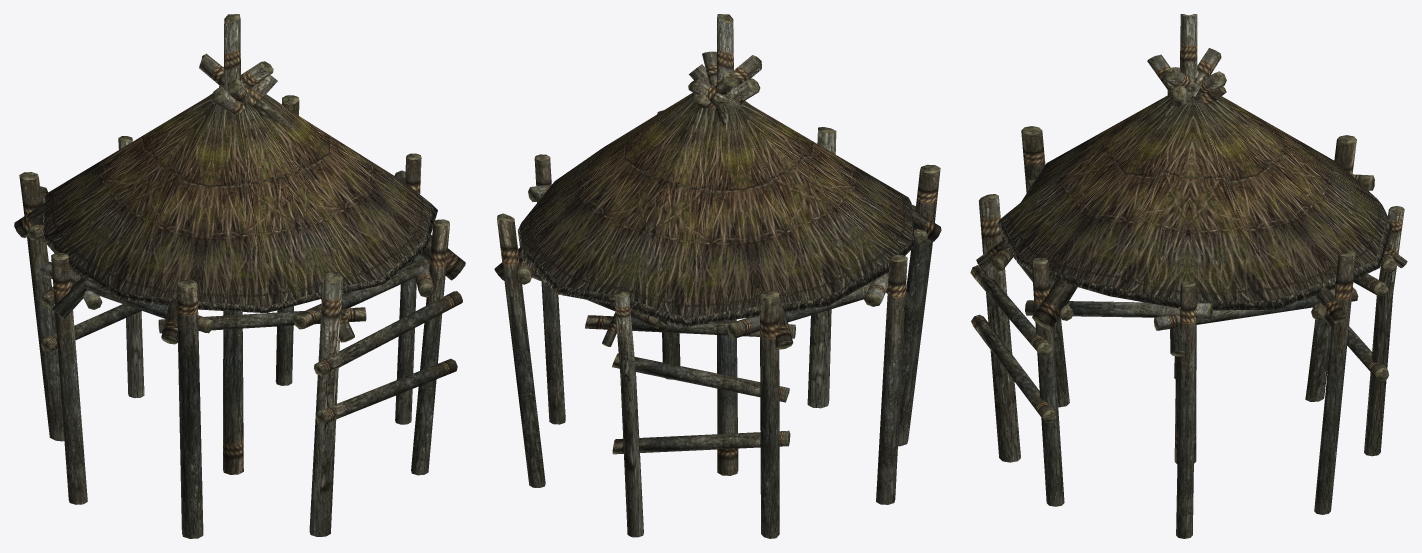
Rendered from camp_woodhut_00.fbx.
The picture shows the model from 3 angles, left to right: view 1: azimuth 30°, elevation 25°; view 2: azimuth 150°, elevation 25°; view 3: azimuth 270°, elevation 25°; orthographic projection.
Visible parts, largest first — view 1: camp_tent_woodhut_00; view 2: camp_tent_woodhut_00; view 3: camp_tent_woodhut_00.
Part boxes in pixels (x1=…): camp_tent_woodhut_00: x1=14, y1=14, x2=465, y2=538; camp_tent_woodhut_00: x1=494, y1=14, x2=941, y2=538; camp_tent_woodhut_00: x1=970, y1=14, x2=1407, y2=538.
Bounding box in the file's own units: 7.77 × 8.83 × 7.78.
